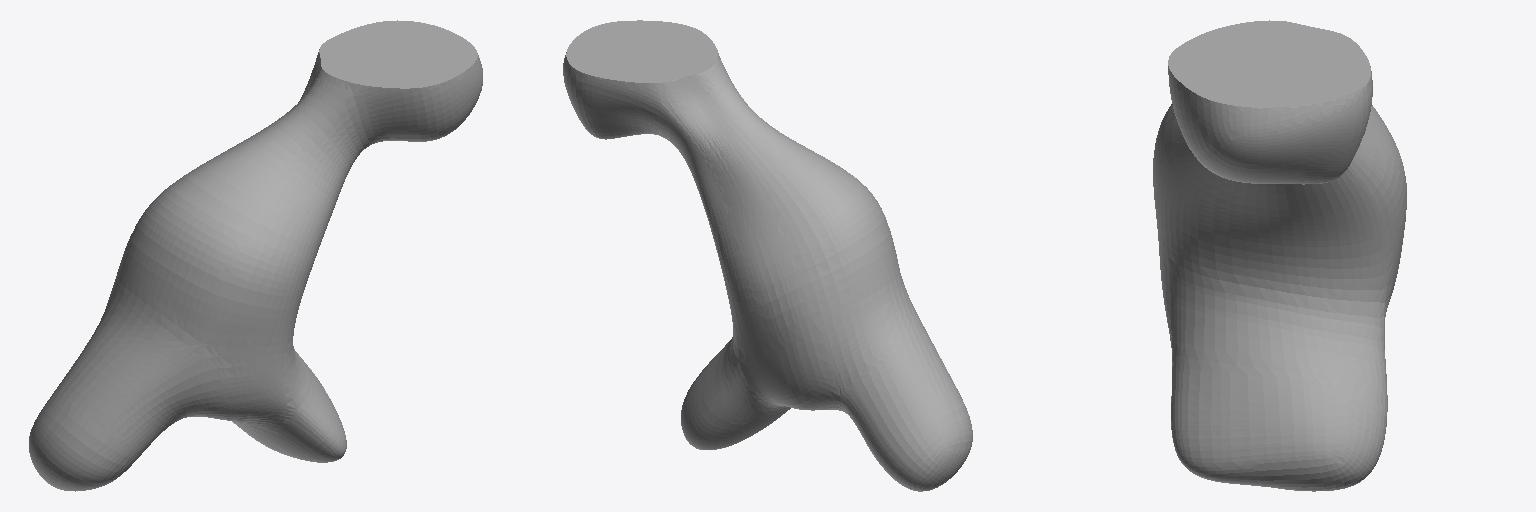
The robot description file, URDF, robot "RobotDog":
<?xml version="1.0" ?>
<robot name="RobotDog">

<material name="silver">
  <color rgba="0.700 0.700 0.700 1.000"/>
</material>

<link name="base_link">
  <inertial>
    <origin xyz="0 0 0" rpy="0 0 0"/>
    <mass value="4.944006724025301"/>
    <inertia ixx="0.013068633825971874" iyy="0.08803654740619468" izz="0.08484521533790042" ixy="0.0006569205050025995" iyz="0.00011903767920557932" ixz="-0.0043542158516784914"/>
  </inertial>
  <visual>
    <origin xyz="0 0 0" rpy="0 0 0"/>
    <geometry>
      <mesh filename="meshes/base_link.stl" scale="0.001 0.001 0.001"/>
    </geometry>
    <material name="silver"/>
  </visual>
  <collision>
    <origin xyz="0 0 0" rpy="0 0 0"/>
    <geometry>
      <mesh filename="meshes/base_link.stl" scale="0.001 0.001 0.001"/>
    </geometry>
  </collision>
</link>

<link name="leg1_1">
  <inertial>
    <origin xyz="-0.108728 -0.086125 -0.03886" rpy="0 0 0"/>
    <mass value="0.17635098126357945"/>
    <inertia ixx="0.000257556307641411" iyy="0.00028355988220532796" izz="6.1658515570529e-05" ixy="-6.905459371550973e-07" iyz="3.2422216219538146e-06" ixz="-7.962671147490857e-07"/>
  </inertial>
  <visual>
    <origin xyz="-0.108728 -0.086125 -0.03886" rpy="0 0 0"/>
    <geometry>
      <mesh filename="meshes/leg1_1.stl" scale="0.001 0.001 0.001"/>
    </geometry>
    <material name="silver"/>
  </visual>
  <collision>
    <origin xyz="-0.108728 -0.086125 -0.03886" rpy="0 0 0"/>
    <geometry>
      <mesh filename="meshes/leg1_1.stl" scale="0.001 0.001 0.001"/>
    </geometry>
  </collision>
</link>

<link name="leg2_1">
  <inertial>
    <origin xyz="0.134347 -0.086125 -0.038955" rpy="0 0 0"/>
    <mass value="0.21988900237553521"/>
    <inertia ixx="0.0003018868901724604" iyy="0.0003380556945018279" izz="9.913911461792435e-05" ixy="2.6722106544782402e-06" iyz="2.9804497865372492e-05" ixz="-1.261715126454427e-05"/>
  </inertial>
  <visual>
    <origin xyz="0.134347 -0.086125 -0.038955" rpy="0 0 0"/>
    <geometry>
      <mesh filename="meshes/leg2_1.stl" scale="0.001 0.001 0.001"/>
    </geometry>
    <material name="silver"/>
  </visual>
  <collision>
    <origin xyz="0.134347 -0.086125 -0.038955" rpy="0 0 0"/>
    <geometry>
      <mesh filename="meshes/leg2_1.stl" scale="0.001 0.001 0.001"/>
    </geometry>
  </collision>
</link>

<link name="leg3_1">
  <inertial>
    <origin xyz="-0.102253 0.086125 -0.041624" rpy="0 0 0"/>
    <mass value="0.2124436301601684"/>
    <inertia ixx="0.0003038108229708645" iyy="0.00033477478704116307" izz="8.903877790008945e-05" ixy="5.563117812332902e-07" iyz="-2.6244416624227062e-05" ixz="4.740653695237845e-06"/>
  </inertial>
  <visual>
    <origin xyz="-0.102253 0.086125 -0.041624" rpy="0 0 0"/>
    <geometry>
      <mesh filename="meshes/leg3_1.stl" scale="0.001 0.001 0.001"/>
    </geometry>
    <material name="silver"/>
  </visual>
  <collision>
    <origin xyz="-0.102253 0.086125 -0.041624" rpy="0 0 0"/>
    <geometry>
      <mesh filename="meshes/leg3_1.stl" scale="0.001 0.001 0.001"/>
    </geometry>
  </collision>
</link>

<link name="leg4_1">
  <inertial>
    <origin xyz="0.144982 0.086125 -0.03761" rpy="0 0 0"/>
    <mass value="0.16803507345033536"/>
    <inertia ixx="0.000233135738970644" iyy="0.0002578698077087406" izz="5.632356757126998e-05" ixy="-2.878202624615432e-07" iyz="-7.351883954747186e-06" ixz="8.312906133240068e-07"/>
  </inertial>
  <visual>
    <origin xyz="0.144982 0.086125 -0.03761" rpy="0 0 0"/>
    <geometry>
      <mesh filename="meshes/leg4_1.stl" scale="0.001 0.001 0.001"/>
    </geometry>
    <material name="silver"/>
  </visual>
  <collision>
    <origin xyz="0.144982 0.086125 -0.03761" rpy="0 0 0"/>
    <geometry>
      <mesh filename="meshes/leg4_1.stl" scale="0.001 0.001 0.001"/>
    </geometry>
  </collision>
</link>

<link name="foot1_1">
  <inertial>
    <origin xyz="-0.10802 -0.120533 0.071009" rpy="0 0 0"/>
    <mass value="0.4197478789995662"/>
    <inertia ixx="0.0006568980308908866" iyy="0.0012130802809138738" izz="0.0007654275169628605" ixy="-8.87698260668493e-06" iyz="9.84617748643439e-06" ixz="0.0005028029484198671"/>
  </inertial>
  <visual>
    <origin xyz="-0.10802 -0.120533 0.071009" rpy="0 0 0"/>
    <geometry>
      <mesh filename="meshes/foot1_1.stl" scale="0.001 0.001 0.001"/>
    </geometry>
    <material name="silver"/>
  </visual>
  <collision>
    <origin xyz="-0.10802 -0.120533 0.071009" rpy="0 0 0"/>
    <geometry>
      <mesh filename="meshes/foot1_1.stl" scale="0.001 0.001 0.001"/>
    </geometry>
  </collision>
</link>

<link name="foot2_1">
  <inertial>
    <origin xyz="0.142413 -0.132758 0.071009" rpy="0 0 0"/>
    <mass value="0.4725136412635692"/>
    <inertia ixx="0.0008942612498513448" iyy="0.0014362796619221269" izz="0.0007738208937411832" ixy="2.588853288451945e-05" iyz="3.0022624916269114e-05" ixz="-0.0004468415567392796"/>
  </inertial>
  <visual>
    <origin xyz="0.142413 -0.132758 0.071009" rpy="0 0 0"/>
    <geometry>
      <mesh filename="meshes/foot2_1.stl" scale="0.001 0.001 0.001"/>
    </geometry>
    <material name="silver"/>
  </visual>
  <collision>
    <origin xyz="0.142413 -0.132758 0.071009" rpy="0 0 0"/>
    <geometry>
      <mesh filename="meshes/foot2_1.stl" scale="0.001 0.001 0.001"/>
    </geometry>
  </collision>
</link>

<link name="foot3_1">
  <inertial>
    <origin xyz="-0.103793 0.131521 0.071009" rpy="0 0 0"/>
    <mass value="0.39949807856162617"/>
    <inertia ixx="0.0005587831898407856" iyy="0.0010518776327046592" izz="0.0006940924676289636" ixy="1.203976673111104e-05" iyz="-1.1540259697797109e-05" ixz="0.0004252328517385783"/>
  </inertial>
  <visual>
    <origin xyz="-0.103793 0.131521 0.071009" rpy="0 0 0"/>
    <geometry>
      <mesh filename="meshes/foot3_1.stl" scale="0.001 0.001 0.001"/>
    </geometry>
    <material name="silver"/>
  </visual>
  <collision>
    <origin xyz="-0.103793 0.131521 0.071009" rpy="0 0 0"/>
    <geometry>
      <mesh filename="meshes/foot3_1.stl" scale="0.001 0.001 0.001"/>
    </geometry>
  </collision>
</link>

<link name="foot4_1">
  <inertial>
    <origin xyz="0.143602 0.121679 0.071009" rpy="0 0 0"/>
    <mass value="0.47989575308955273"/>
    <inertia ixx="0.0009695943456060965" iyy="0.001553049212715145" izz="0.00081337999067424" ixy="1.2974184452859902e-05" iyz="1.5042560526416782e-05" ixz="-0.0005143394400318052"/>
  </inertial>
  <visual>
    <origin xyz="0.143602 0.121679 0.071009" rpy="0 0 0"/>
    <geometry>
      <mesh filename="meshes/foot4_1.stl" scale="0.001 0.001 0.001"/>
    </geometry>
    <material name="silver"/>
  </visual>
  <collision>
    <origin xyz="0.143602 0.121679 0.071009" rpy="0 0 0"/>
    <geometry>
      <mesh filename="meshes/foot4_1.stl" scale="0.001 0.001 0.001"/>
    </geometry>
  </collision>
</link>

<joint name="Revolute 1" type="revolute">
  <origin xyz="0.108728 0.086125 0.03886" rpy="0 0 0"/>
  <parent link="base_link"/>
  <child link="leg1_1"/>
  <axis xyz="0.0 0.0 -1.0"/>
  <limit upper="0.0" lower="0.0" effort="3.8" velocity="5.4"/>
</joint>
<transmission name="Revolute 1_tran">
  <type>transmission_interface/SimpleTransmission</type>
  <joint name="Revolute 1">
    <hardwareInterface>PositionJointInterface</hardwareInterface>
  </joint>
  <actuator name="Revolute 1_actr">
    <hardwareInterface>PositionJointInterface</hardwareInterface>
    <mechanicalReduction>1</mechanicalReduction>
  </actuator>
</transmission>

<joint name="Revolute 2" type="revolute">
  <origin xyz="-0.134347 0.086125 0.038955" rpy="0 0 0"/>
  <parent link="base_link"/>
  <child link="leg2_1"/>
  <axis xyz="0.0 0.0 -1.0"/>
  <limit upper="0.0" lower="0.0" effort="3.8" velocity="5.4"/>
</joint>
<transmission name="Revolute 2_tran">
  <type>transmission_interface/SimpleTransmission</type>
  <joint name="Revolute 2">
    <hardwareInterface>PositionJointInterface</hardwareInterface>
  </joint>
  <actuator name="Revolute 2_actr">
    <hardwareInterface>PositionJointInterface</hardwareInterface>
    <mechanicalReduction>1</mechanicalReduction>
  </actuator>
</transmission>

<joint name="Revolute 3" type="revolute">
  <origin xyz="0.102253 -0.086125 0.041624" rpy="0 0 0"/>
  <parent link="base_link"/>
  <child link="leg3_1"/>
  <axis xyz="0.0 0.0 -1.0"/>
  <limit upper="0.0" lower="0.0" effort="3.8" velocity="5.4"/>
</joint>
<transmission name="Revolute 3_tran">
  <type>transmission_interface/SimpleTransmission</type>
  <joint name="Revolute 3">
    <hardwareInterface>PositionJointInterface</hardwareInterface>
  </joint>
  <actuator name="Revolute 3_actr">
    <hardwareInterface>PositionJointInterface</hardwareInterface>
    <mechanicalReduction>1</mechanicalReduction>
  </actuator>
</transmission>

<joint name="Revolute 4" type="revolute">
  <origin xyz="-0.144982 -0.086125 0.03761" rpy="0 0 0"/>
  <parent link="base_link"/>
  <child link="leg4_1"/>
  <axis xyz="0.0 0.0 -1.0"/>
  <limit upper="0.0" lower="0.0" effort="3.8" velocity="5.4"/>
</joint>
<transmission name="Revolute 4_tran">
  <type>transmission_interface/SimpleTransmission</type>
  <joint name="Revolute 4">
    <hardwareInterface>PositionJointInterface</hardwareInterface>
  </joint>
  <actuator name="Revolute 4_actr">
    <hardwareInterface>PositionJointInterface</hardwareInterface>
    <mechanicalReduction>1</mechanicalReduction>
  </actuator>
</transmission>

<joint name="Revolute 5" type="revolute">
  <origin xyz="-0.000708 0.034408 -0.109869" rpy="0 0 0"/>
  <parent link="leg1_1"/>
  <child link="foot1_1"/>
  <axis xyz="1.0 0.0 0.0"/>
  <limit upper="0.0" lower="0.0" effort="3.8" velocity="5.4"/>
</joint>
<transmission name="Revolute 5_tran">
  <type>transmission_interface/SimpleTransmission</type>
  <joint name="Revolute 5">
    <hardwareInterface>PositionJointInterface</hardwareInterface>
  </joint>
  <actuator name="Revolute 5_actr">
    <hardwareInterface>PositionJointInterface</hardwareInterface>
    <mechanicalReduction>1</mechanicalReduction>
  </actuator>
</transmission>

<joint name="Revolute 6" type="revolute">
  <origin xyz="-0.008066 0.046633 -0.109964" rpy="0 0 0"/>
  <parent link="leg2_1"/>
  <child link="foot2_1"/>
  <axis xyz="1.0 0.0 0.0"/>
  <limit upper="0.0" lower="0.0" effort="3.8" velocity="5.4"/>
</joint>
<transmission name="Revolute 6_tran">
  <type>transmission_interface/SimpleTransmission</type>
  <joint name="Revolute 6">
    <hardwareInterface>PositionJointInterface</hardwareInterface>
  </joint>
  <actuator name="Revolute 6_actr">
    <hardwareInterface>PositionJointInterface</hardwareInterface>
    <mechanicalReduction>1</mechanicalReduction>
  </actuator>
</transmission>

<joint name="Revolute 7" type="revolute">
  <origin xyz="0.00154 -0.045396 -0.112633" rpy="0 0 0"/>
  <parent link="leg3_1"/>
  <child link="foot3_1"/>
  <axis xyz="1.0 0.0 0.0"/>
  <limit upper="0.0" lower="0.0" effort="3.8" velocity="5.4"/>
</joint>
<transmission name="Revolute 7_tran">
  <type>transmission_interface/SimpleTransmission</type>
  <joint name="Revolute 7">
    <hardwareInterface>PositionJointInterface</hardwareInterface>
  </joint>
  <actuator name="Revolute 7_actr">
    <hardwareInterface>PositionJointInterface</hardwareInterface>
    <mechanicalReduction>1</mechanicalReduction>
  </actuator>
</transmission>

<joint name="Revolute 8" type="revolute">
  <origin xyz="0.00138 -0.035554 -0.108619" rpy="0 0 0"/>
  <parent link="leg4_1"/>
  <child link="foot4_1"/>
  <axis xyz="1.0 0.0 0.0"/>
  <limit upper="0.0" lower="0.0" effort="3.8" velocity="5.4"/>
</joint>
<transmission name="Revolute 8_tran">
  <type>transmission_interface/SimpleTransmission</type>
  <joint name="Revolute 8">
    <hardwareInterface>PositionJointInterface</hardwareInterface>
  </joint>
  <actuator name="Revolute 8_actr">
    <hardwareInterface>PositionJointInterface</hardwareInterface>
    <mechanicalReduction>1</mechanicalReduction>
  </actuator>
</transmission>

</robot>

--- What the picture shows (computed from the rendered views, not written in the file) ---
Views: 3 orthographic renders of the robot side by side, from view 1: azimuth 30°, elevation 25°; view 2: azimuth 150°, elevation 25°; view 3: azimuth 270°, elevation 25°.
Robot: RobotDog — 9 links, 8 joints (8 revolute); root link base_link; default pose: every joint at zero.
Links seen in each view (by area): view 1: foot2_1; view 2: foot2_1; view 3: foot2_1.
Boxes of the visible links, left/top/right/bottom form: foot2_1: left=29, top=20, right=482, bottom=491; foot2_1: left=563, top=20, right=972, bottom=491; foot2_1: left=1153, top=20, right=1406, bottom=491.
Size in the robot's own frame: 0.181 by 0.0736 by 0.1542 metres.
Meshes: 9 distinct files referenced, 1 mesh visuals loaded (1 binary STL); not drawn: 8 (reference not matched to a file when rendering).